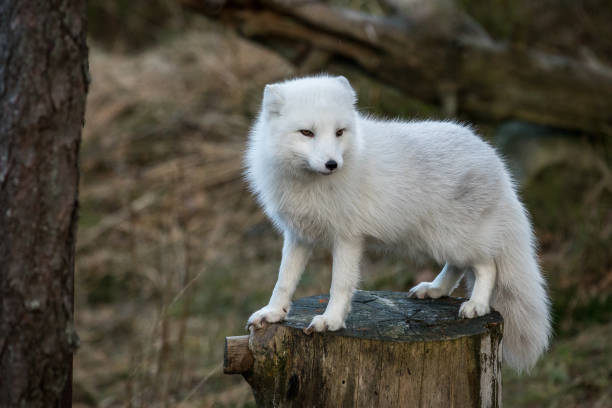arcticfox: (272, 85, 351, 195)
